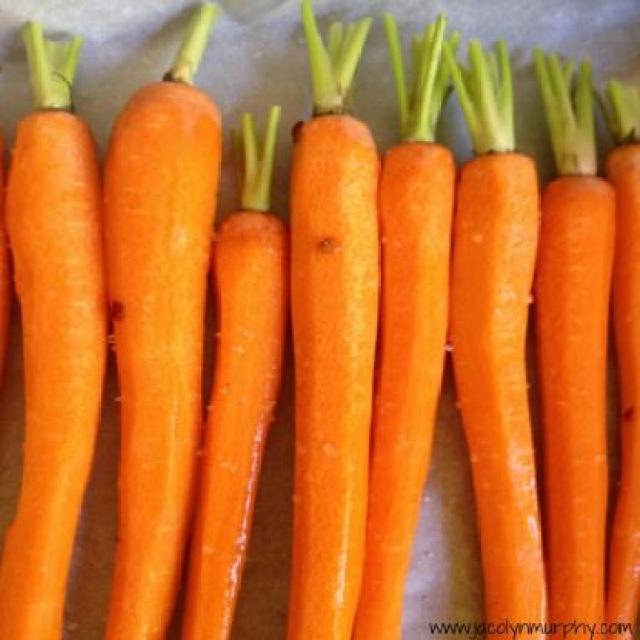carrot: (106, 85, 217, 640), (11, 113, 117, 640), (453, 152, 557, 640), (286, 115, 380, 640), (528, 170, 623, 640), (187, 207, 287, 640), (373, 133, 447, 640)
